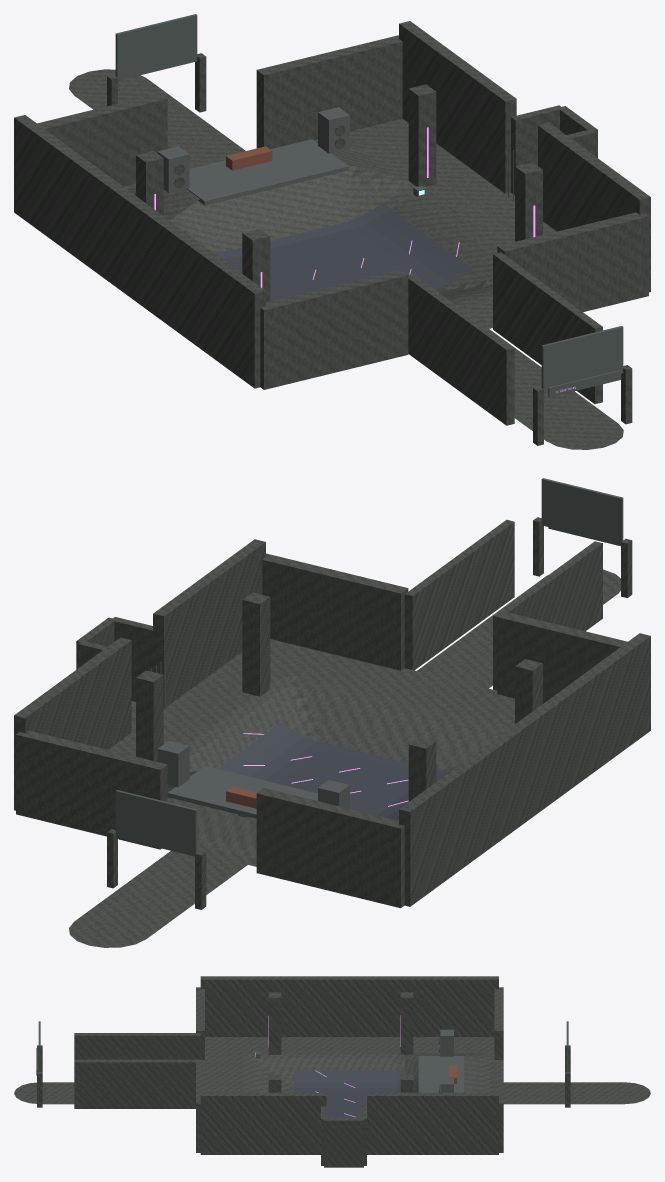
File: PL_Route_C.fbx
3 views of the same model, one above another, from view 1: azimuth 30°, elevation 25°; view 2: azimuth 150°, elevation 25°; view 3: azimuth 270°, elevation 25° (orthographic). The views are drawn at different scales.
Parts seen in each view (by area): view 1: PL_C_CombatSpace, PL_C_RoomSide, PL_C_EndWall, PL_C_EndWall.003, PL_C_RoomSide.002, PL_C_EndWall.001, PL_C_EntryTunnelWall, PL_C_RoomSide.001, PL_C_EndWall.002, PL_C_EntryTunnelWall.001, PL_C_Stage, PL_Travel_C (+17 smaller); view 2: PL_C_CombatSpace, PL_C_RoomSide, PL_C_EndWall.002, PL_C_EndWall.001, PL_C_EndWall.003, PL_C_RoomSide.001, PL_C_EntryTunnelWall.001, PL_Travel_ExitC, PL_C_RoomSide.002, PL_C_EndWall, PL_C_EntryTunnelWall, PL_Travel_C (+13 smaller); view 3: PL_C_RoomSide, PL_C_CombatSpace, PL_C_RoomSide.002, PL_C_RoomSide.001, PL_C_EntryTunnelWall.001, PL_C_EntryTunnelWall, PL_Travel_ExitC, PL_C_AlcoveBack, PL_C_Stage, PL_Travel_C, PL_C_CisternColumn, PL_C_CisternColumn.001 (+5 smaller).
Boxes of the visible parts, x1,y1,x2,y2 form: PL_C_CombatSpace: (124,118,556,328); PL_C_RoomSide: (14,115,265,388); PL_C_EndWall: (260,269,408,389); PL_C_EndWall.003: (256,35,402,149); PL_C_RoomSide.002: (399,21,516,193); PL_C_EndWall.001: (497,212,648,311); PL_C_EntryTunnelWall: (408,273,514,425); PL_C_RoomSide.001: (538,122,650,292); PL_C_EndWall.002: (37,93,167,186); PL_C_EntryTunnelWall.001: (493,252,602,403); PL_C_Stage: (186,139,348,205); PL_Travel_C: (487,328,623,449); PL_C_CombatSpace: (108,639,514,866); PL_C_RoomSide: (399,633,650,906); PL_C_EndWall.002: (256,788,404,908); PL_C_EndWall.001: (262,553,408,670); PL_C_EndWall.003: (16,730,167,849); PL_C_RoomSide.001: (153,539,265,708); PL_C_EntryTunnelWall.001: (404,519,514,670); PL_Travel_ExitC: (69,845,252,947); PL_C_RoomSide.002: (14,637,131,810); PL_C_EndWall: (497,612,627,703); PL_C_EntryTunnelWall: (493,541,602,690); PL_Travel_C: (411,569,620,696); PL_C_RoomSide: (200,976,498,1036); PL_C_CombatSpace: (205,1037,494,1117); PL_C_RoomSide.002: (367,1092,498,1154); PL_C_RoomSide.001: (200,1092,326,1154); PL_C_EntryTunnelWall.001: (74,1059,200,1108); PL_C_EntryTunnelWall: (74,1033,200,1059); PL_Travel_ExitC: (490,1082,650,1104); PL_C_AlcoveBack: (324,1118,363,1167); PL_C_Stage: (418,1056,464,1092); PL_Travel_C: (14,1082,225,1104); PL_C_CisternColumn: (268,992,281,1054); PL_C_CisternColumn.001: (400,992,413,1054).
Size of the model in its own units: 5520 by 1400 by 11100.
Materials: 6 (1 with a texture image).
